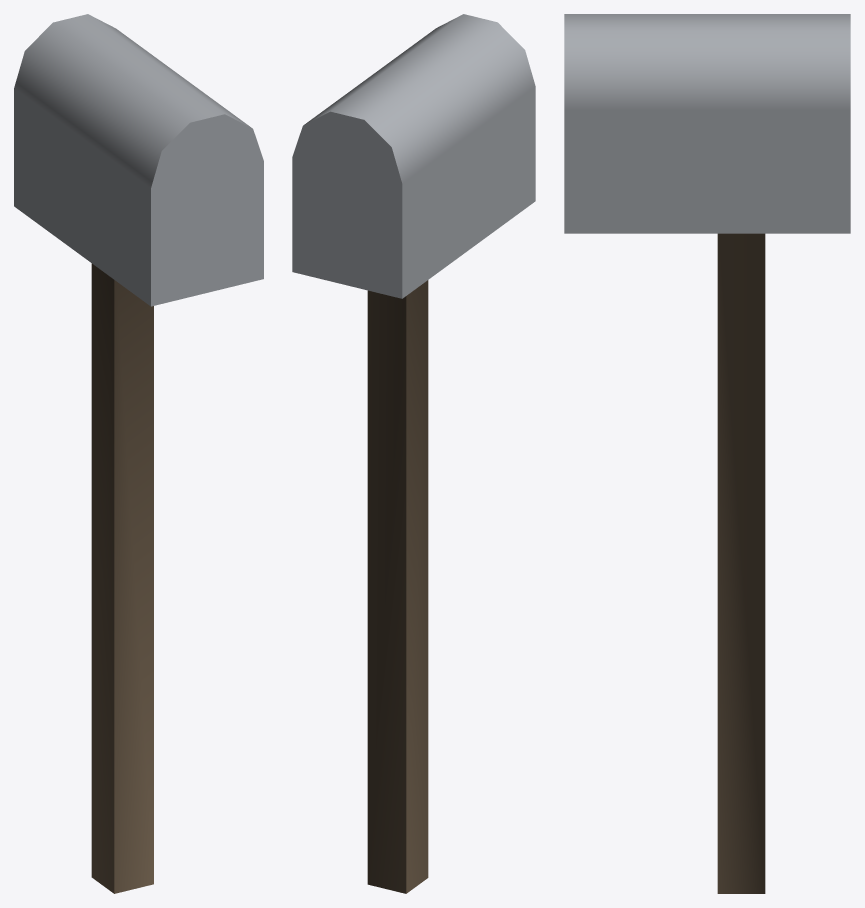
The model's file is mailbox.glb.
3 views of the same model, side by side, from view 1: azimuth 30°, elevation 25°; view 2: azimuth 150°, elevation 25°; view 3: azimuth 270°, elevation 25° (orthographic). The views are drawn at different scales.
Parts seen in each view (by area): view 1: mailbox; view 2: mailbox; view 3: mailbox.
Boxes of the visible parts, x1,y1,x2,y2 form: mailbox: (14,14,263,893); mailbox: (292,14,535,893); mailbox: (564,14,850,893).
Bounding box in the file's own units: 0.2 × 1.4 × 0.42.
